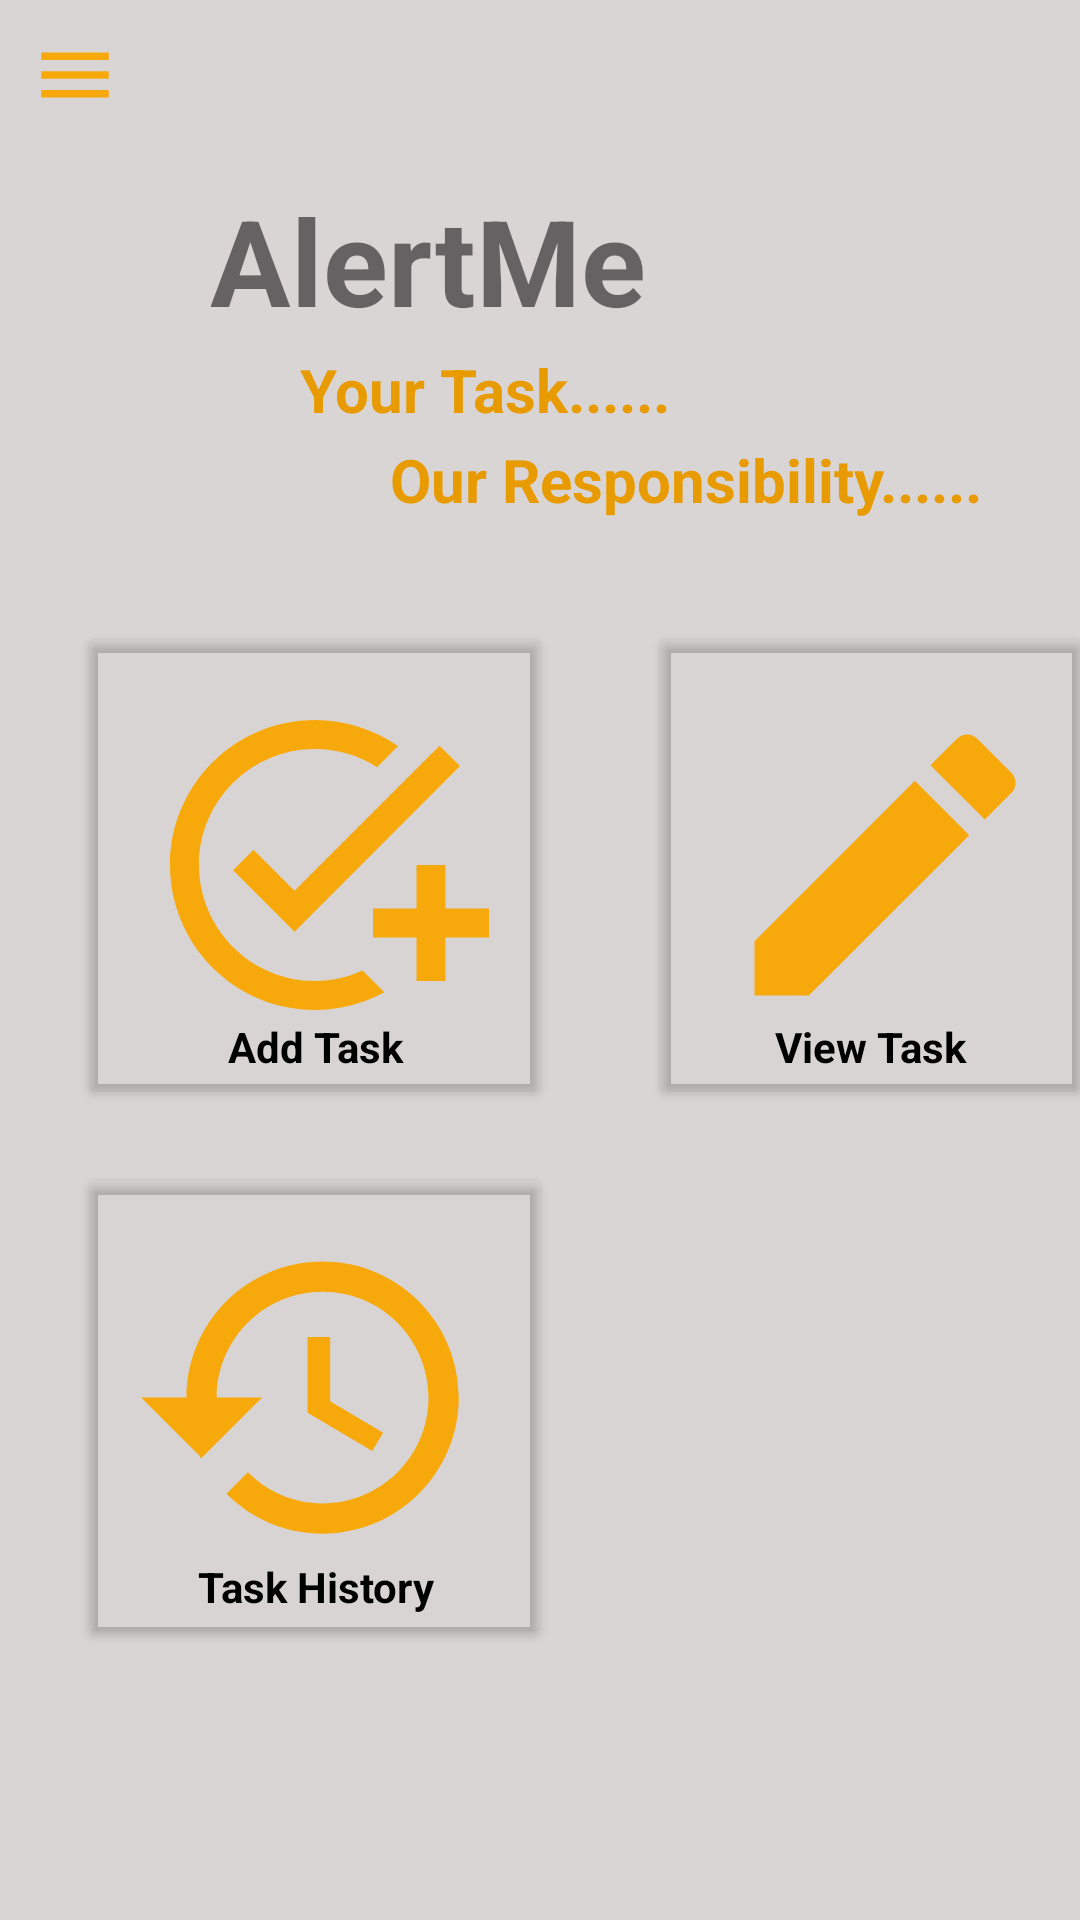

Icons on this 1080px×1920px Android screen, each with the point to tap as (x,y):
edit: (885,886)
menu: (75,75)
